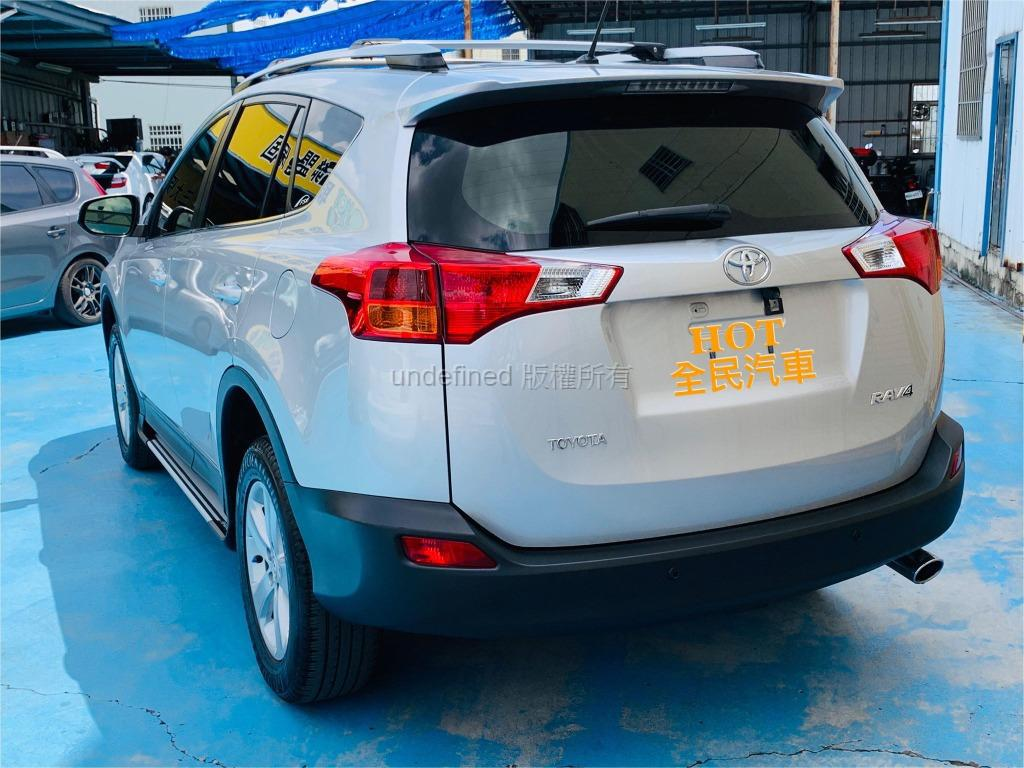toyota_rav4: (315, 46, 955, 623)
